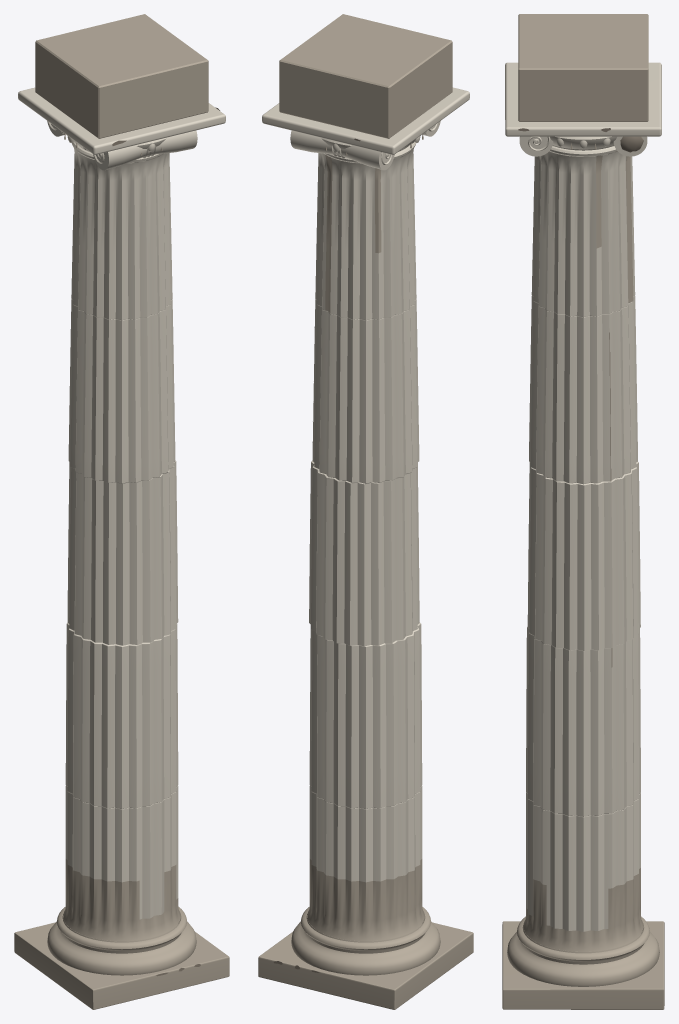
Rendered from column_greek@1.glb.
3 views of the same model, side by side, from view 1: azimuth 30°, elevation 25°; view 2: azimuth 150°, elevation 25°; view 3: azimuth 270°, elevation 25° (orthographic). The views are drawn at different scales.
Visible parts, largest first — view 1: teil.001, teil; view 2: teil.001, teil; view 3: teil.001, teil, teil.002.
Part boxes in pixels (x1=…): teil.001: x1=18, y1=87, x2=225, y2=919; teil: x1=14, y1=14, x2=229, y2=1009; teil.001: x1=262, y1=87, x2=469, y2=882; teil: x1=258, y1=14, x2=473, y2=1009; teil.001: x1=505, y1=62, x2=661, y2=931; teil: x1=502, y1=14, x2=664, y2=1009; teil.002: x1=518, y1=128, x2=643, y2=667.
Size of the model in its own units: 1.24 by 7.9 by 1.24.
